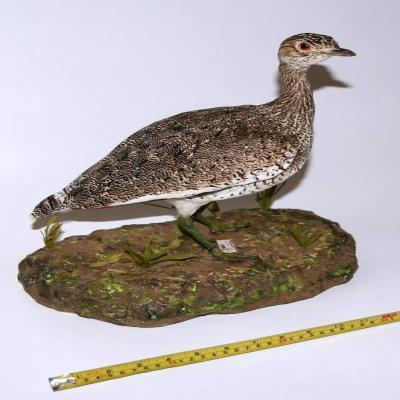natural_science_collection: (29, 33, 357, 262)
